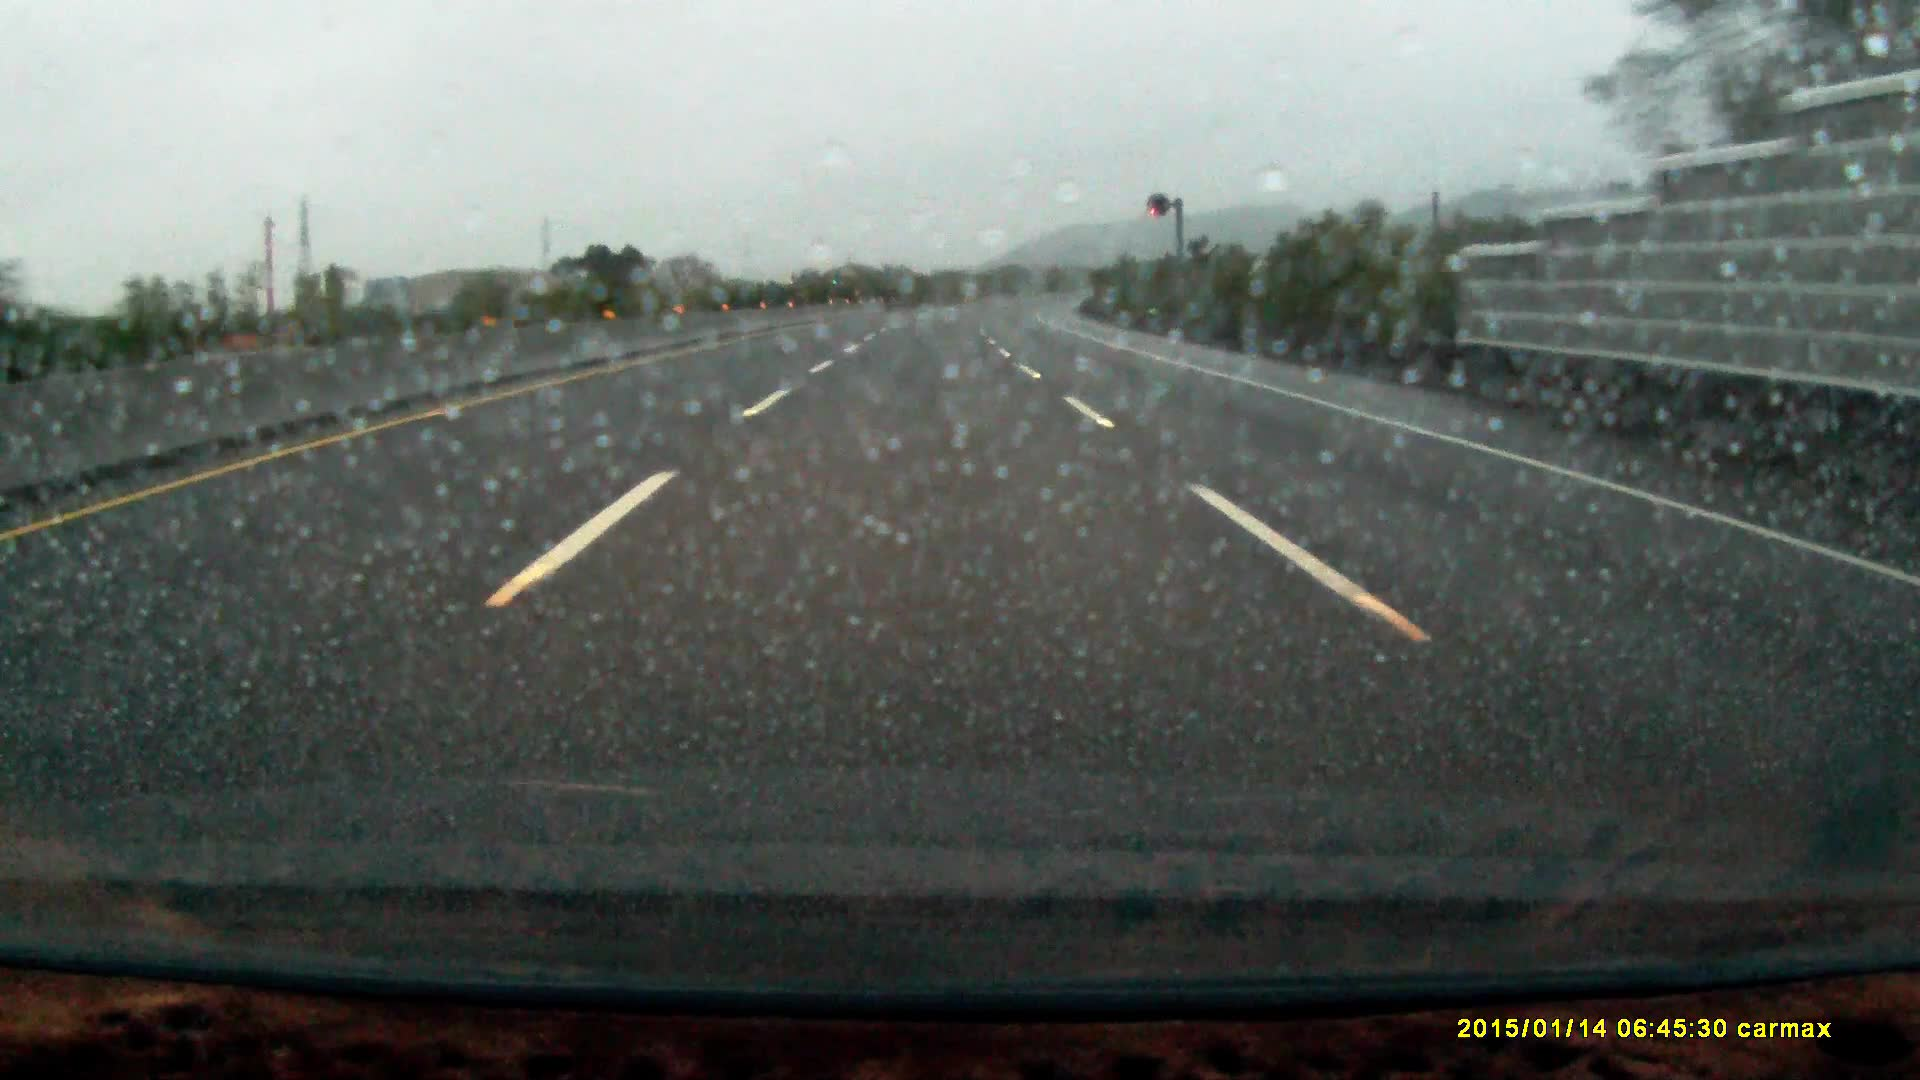vehicle: (827, 269, 866, 306)
